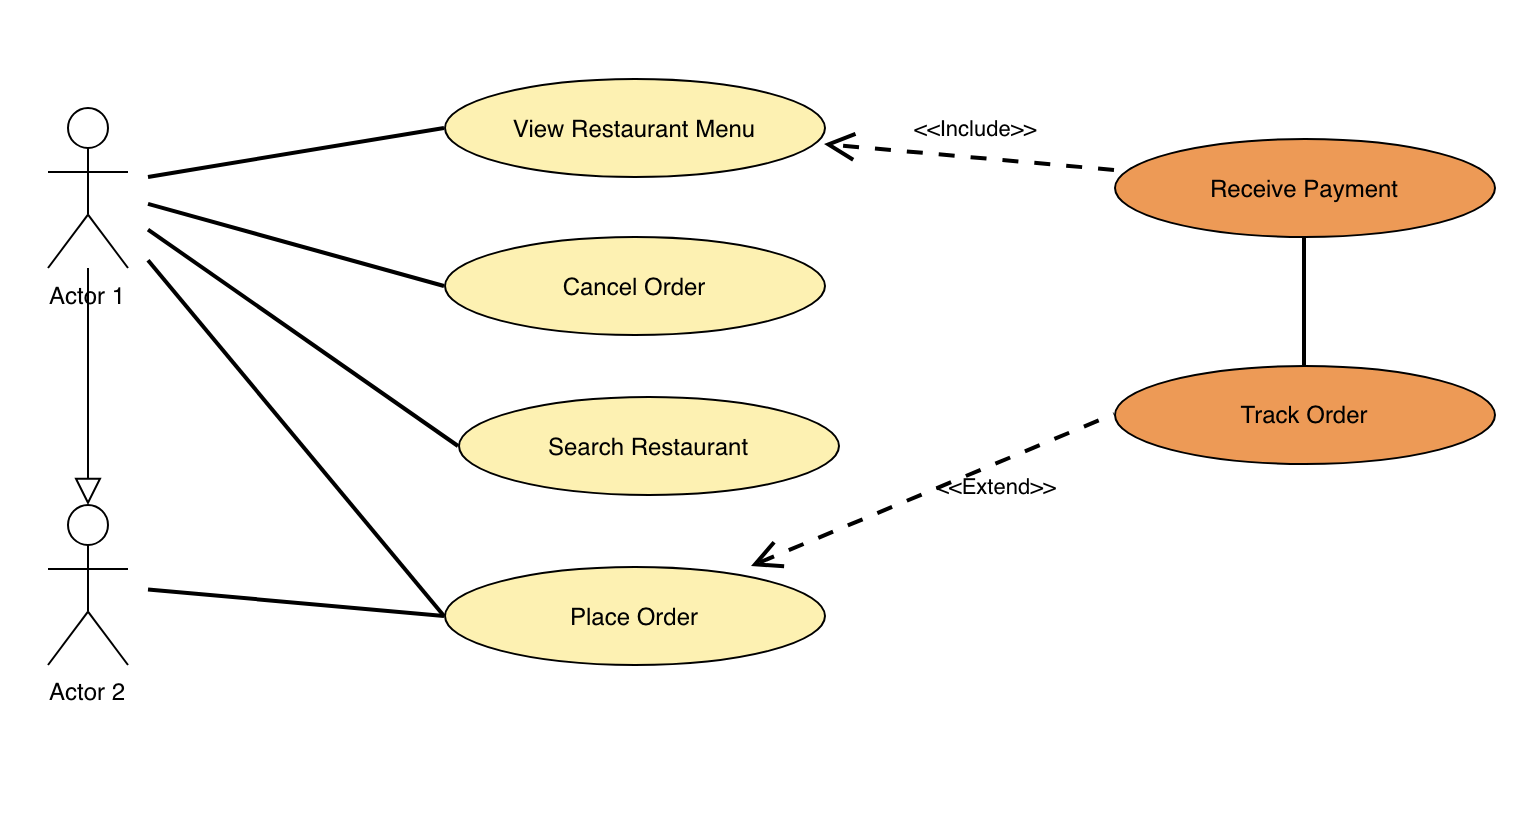actor: (39, 103, 126, 276), (46, 502, 135, 670)
association: (142, 256, 445, 615), (147, 226, 457, 447), (750, 413, 1101, 575), (144, 197, 445, 290), (149, 123, 444, 183), (824, 129, 1115, 178), (146, 581, 443, 625)
text: (541, 429, 767, 471), (507, 117, 767, 146), (552, 589, 710, 634), (553, 268, 726, 306), (1194, 175, 1415, 203), (908, 107, 1044, 147), (1226, 403, 1383, 433), (936, 475, 1067, 504), (40, 677, 136, 706), (44, 279, 136, 308)
use_case: (454, 393, 845, 498), (1111, 136, 1500, 241), (443, 76, 828, 181), (1108, 364, 1498, 467), (442, 564, 829, 668), (445, 235, 828, 338)
